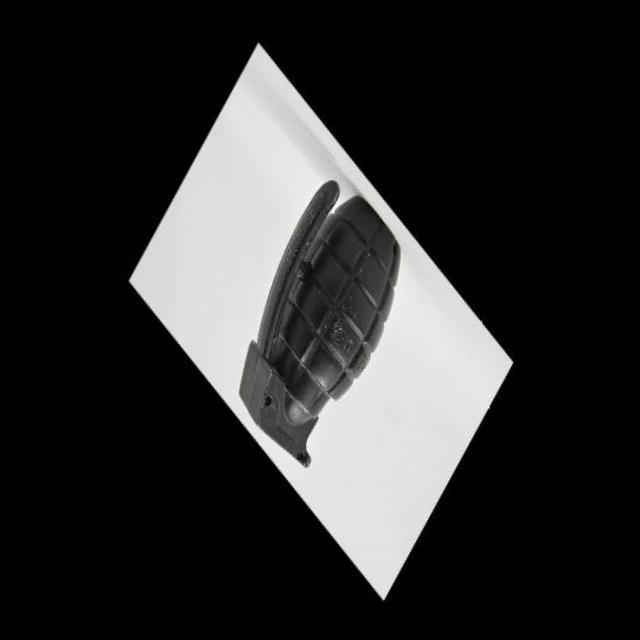grenade: (220, 180, 429, 474)
